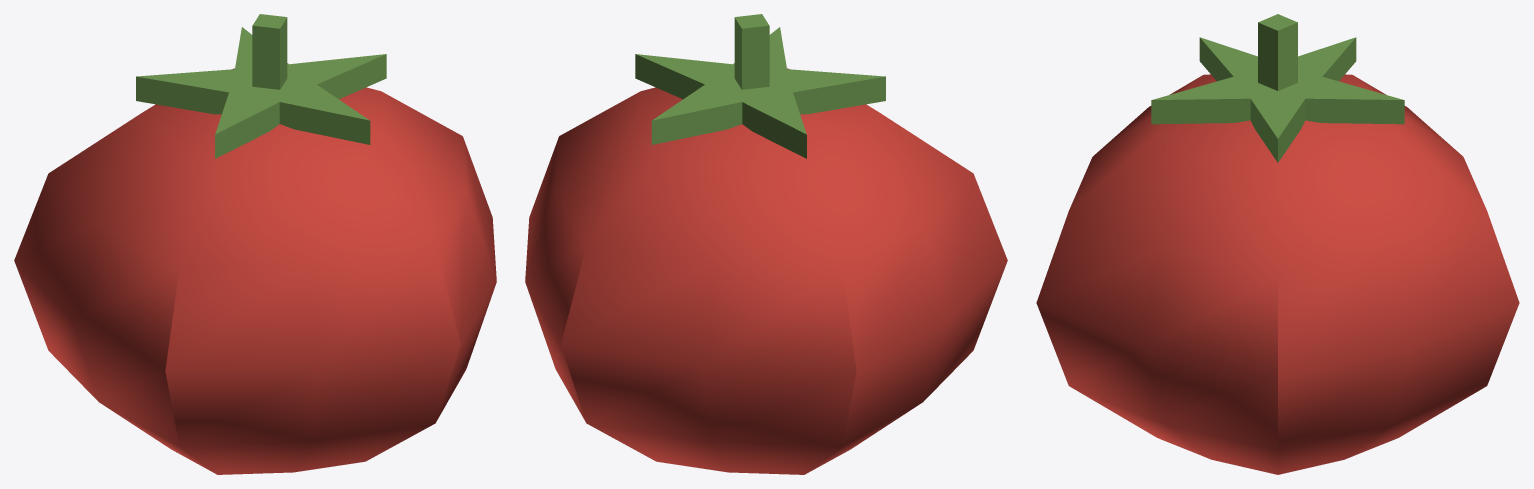
File: tomato.glb
3 renders of one model, left to right at view 1: azimuth 30°, elevation 25°; view 2: azimuth 150°, elevation 25°; view 3: azimuth 270°, elevation 25°, orthographic.
Visible parts, largest first — view 1: tomato; view 2: tomato; view 3: tomato.
Boxes of the visible parts, bbox=[...] form: tomato: bbox=[14, 14, 496, 474]; tomato: bbox=[525, 14, 1007, 474]; tomato: bbox=[1036, 14, 1519, 474].
Size of the model in its own units: 0.072 by 0.07 by 0.0726.
